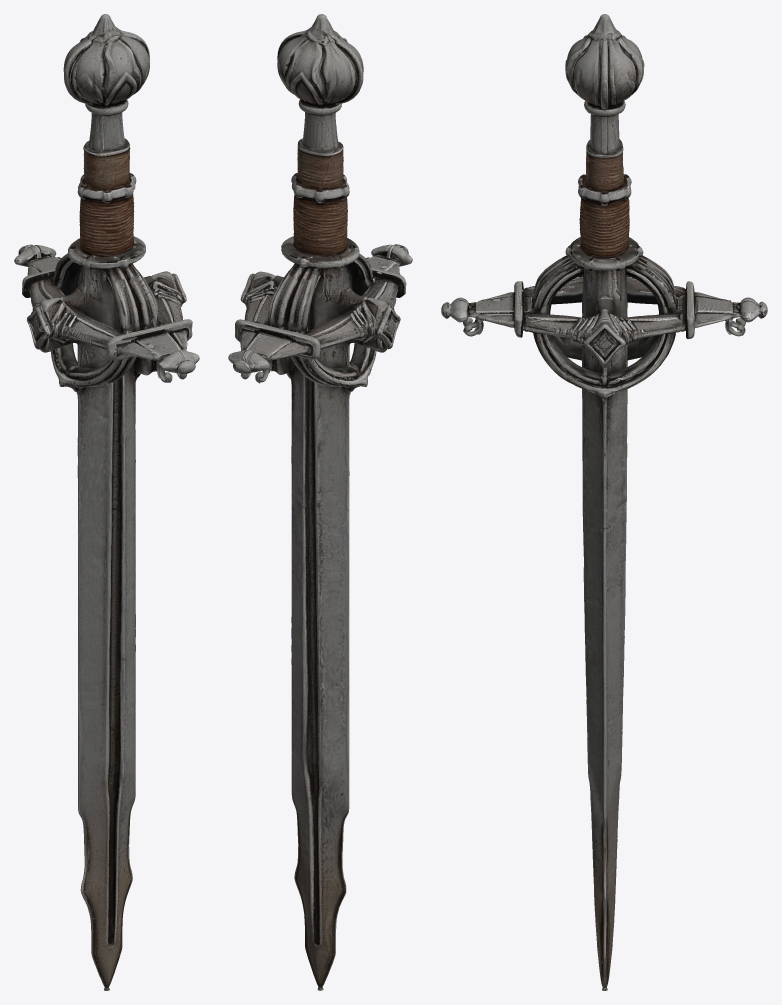
File: 2h_sword02.glb
3 views of the same model, side by side, from view 1: azimuth 30°, elevation 25°; view 2: azimuth 150°, elevation 25°; view 3: azimuth 270°, elevation 25° (orthographic).
Visible parts, largest first — view 1: tripo_node_2c2884f9-b320-493a-b83d-2bf223ca400a; view 2: tripo_node_2c2884f9-b320-493a-b83d-2bf223ca400a; view 3: tripo_node_2c2884f9-b320-493a-b83d-2bf223ca400a.
Part boxes in pixels (left/top/right/bottom): tripo_node_2c2884f9-b320-493a-b83d-2bf223ca400a: left=14, top=14, right=199, bottom=990; tripo_node_2c2884f9-b320-493a-b83d-2bf223ca400a: left=228, top=14, right=412, bottom=990; tripo_node_2c2884f9-b320-493a-b83d-2bf223ca400a: left=441, top=14, right=767, bottom=990.
Bounding box in the file's own units: 0.1525 × 0.9869 × 0.2997.
Materials: 1 (1 with a texture image).
